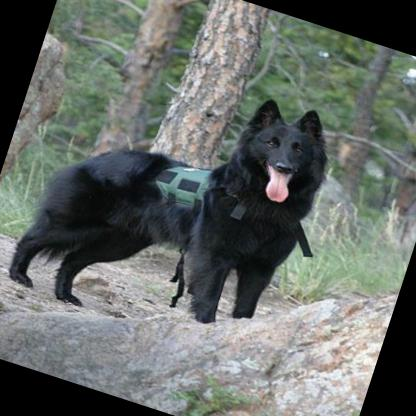groenendael: (2, 34, 344, 368)
